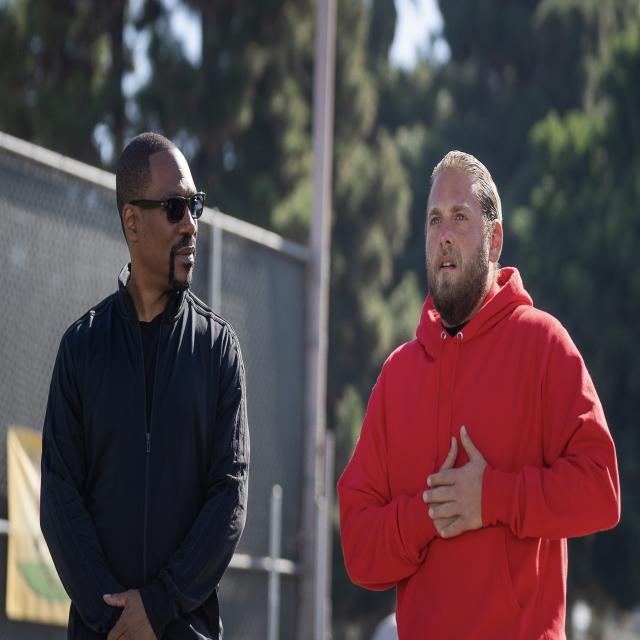adult: (330, 145, 620, 640), (36, 133, 252, 640)
